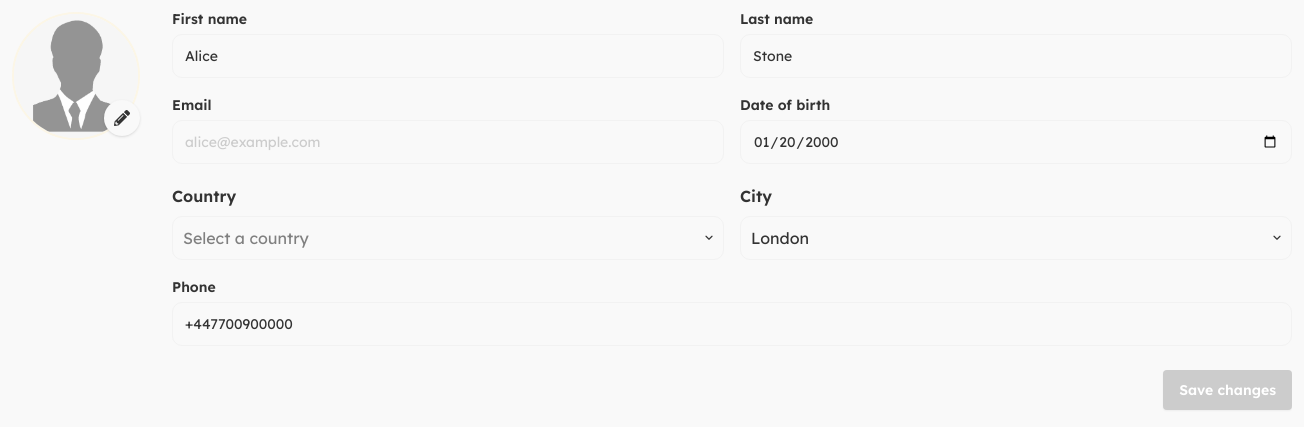
Test: EditProfileTab › keeps save enabled when non-required fields are empty
The width and height of the screenshot is (1304, 427).
Clear the field labelled "Phone" at {"x": 732, "y": 324}, box [185, 314, 1279, 334]
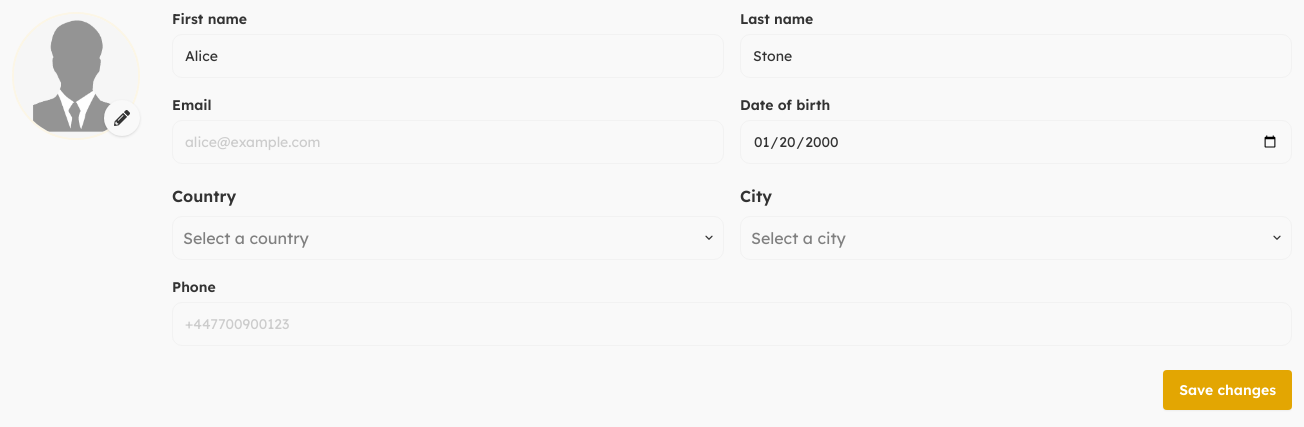
Now the button "Save changes" is enabled, box [1163, 370, 1292, 410]
